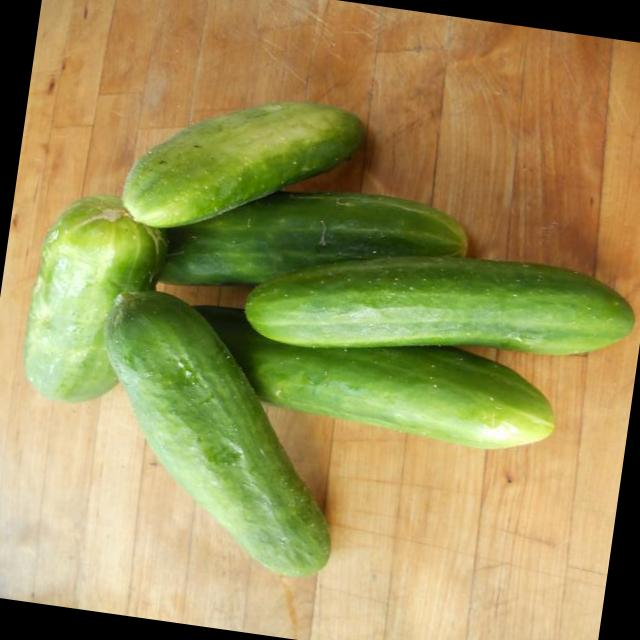Cucumber: (72, 284, 362, 578), (242, 223, 640, 394), (178, 304, 558, 456), (158, 168, 474, 320), (119, 78, 371, 252)
